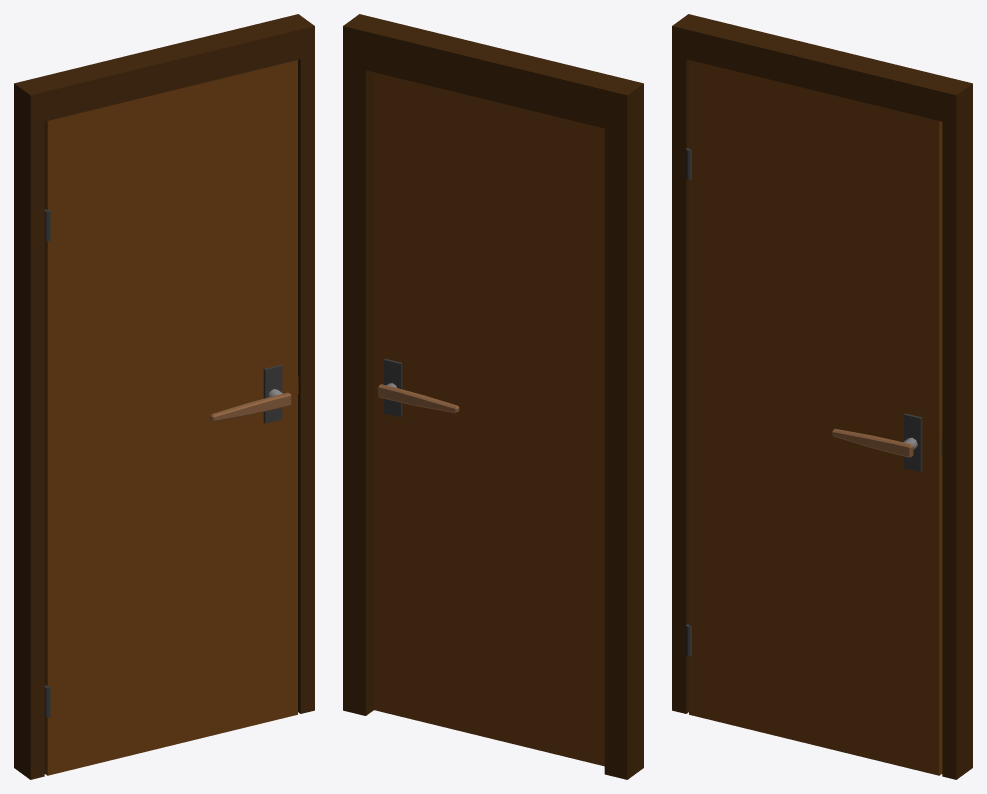
Rendered from BNG_Door_Wood.fbx.
The picture shows the model from 3 angles, left to right: view 1: azimuth 30°, elevation 25°; view 2: azimuth 150°, elevation 25°; view 3: azimuth 330°, elevation 25°; orthographic projection.
Visible parts, largest first — view 1: Door_Wood_One, Door_Wood_One_Frame, Door_Wood_One_Grip; view 2: Door_Wood_One, Door_Wood_One_Frame, Door_Wood_One_Grip; view 3: Door_Wood_One, Door_Wood_One_Frame, Door_Wood_One_Grip.
Part boxes in pixels (<box>): Door_Wood_One: <box>44,60,297,775</box>; Door_Wood_One_Frame: <box>14,14,314,779</box>; Door_Wood_One_Grip: <box>210,389,291,421</box>; Door_Wood_One: <box>374,72,604,766</box>; Door_Wood_One_Frame: <box>343,14,643,779</box>; Door_Wood_One_Grip: <box>378,383,459,413</box>; Door_Wood_One: <box>686,60,942,775</box>; Door_Wood_One_Frame: <box>672,14,972,779</box>; Door_Wood_One_Grip: <box>832,428,917,457</box>.
Size of the model in its own units: 100 by 230 by 17.29.
